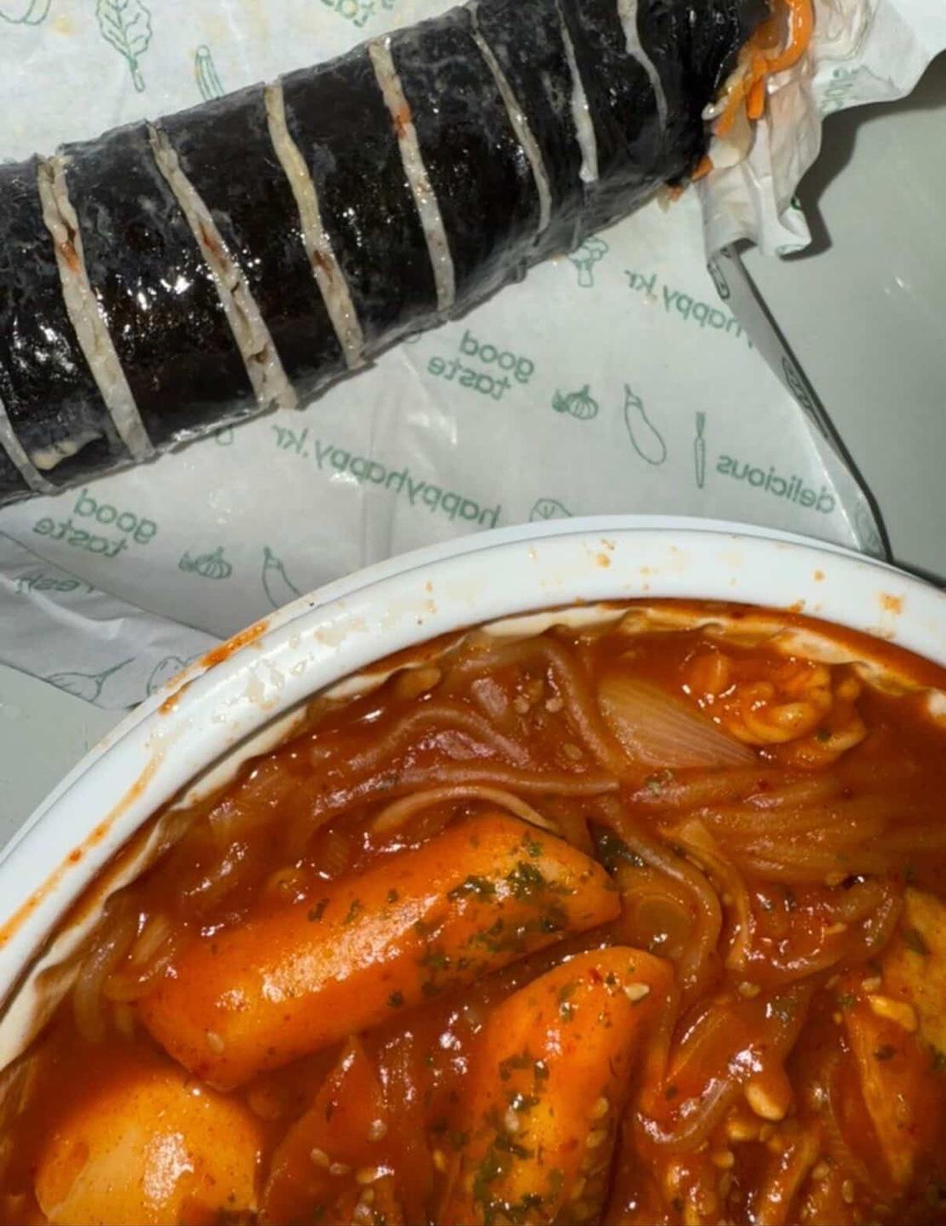Lunch Box: (0, 519, 945, 1225)
